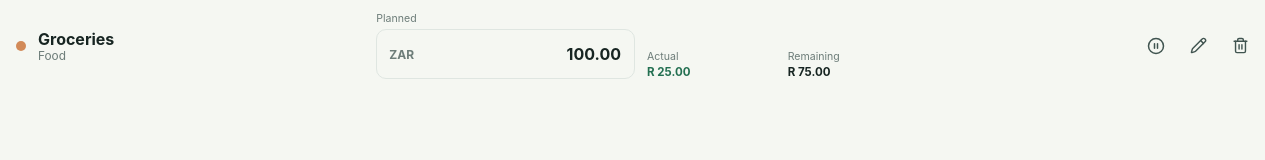
Test case: BudgetRow › keeps an invalid draft and reports it as unsaved
Replace the text in the field named "Groceries planned amount" with "12.345" at (524, 54), box [414,30,634,78]
Wait 700 ms
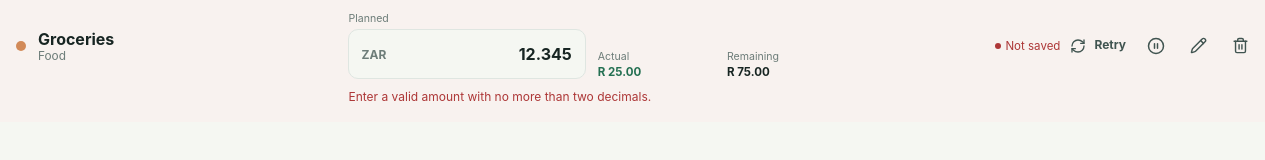
Check: the text "Not saved" is shown, box [995,38,1060,52]
Check: the text "Enter a valid amount with no more than two decimals." is shown, box [348,89,651,104]
